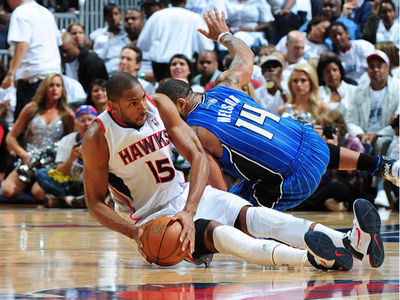10+: (1, 1, 400, 284)
down: (81, 78, 380, 276), (153, 71, 329, 214)
